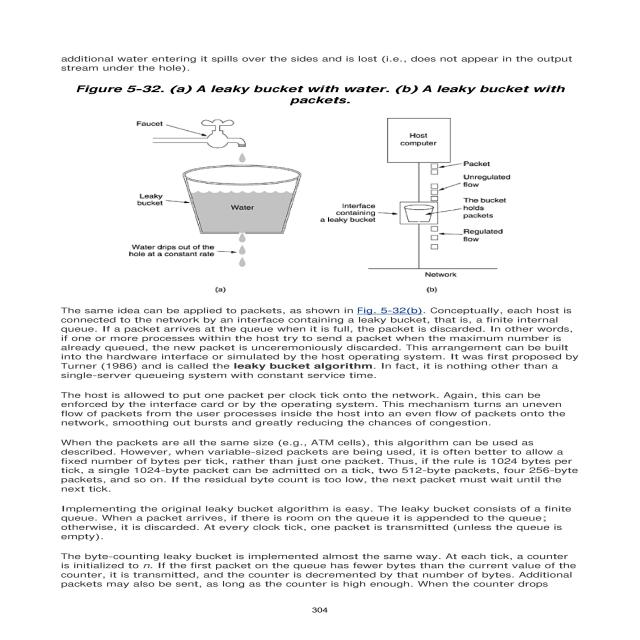diagram: (44, 77, 596, 301)
